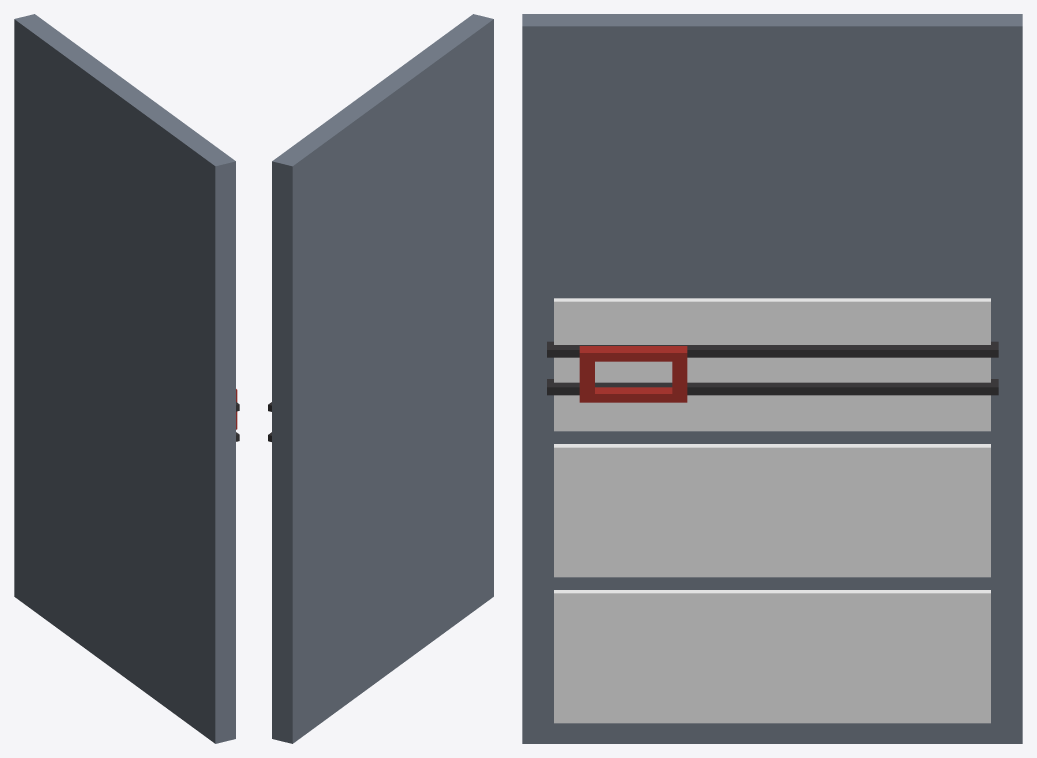
The model's file is SM_Calendar_01.glb.
3 renders of one model, left to right at view 1: azimuth 30°, elevation 25°; view 2: azimuth 150°, elevation 25°; view 3: azimuth 270°, elevation 25°, orthographic. The views are drawn at different scales.
Parts seen in each view (by area): view 1: SM_Calendar_01; view 2: SM_Calendar_01; view 3: SM_Calendar_01.
Boxes of the visible parts, box(x1,y1,x2,y2) form: SM_Calendar_01: box(14, 14, 239, 743); SM_Calendar_01: box(268, 14, 493, 743); SM_Calendar_01: box(522, 14, 1022, 743).
Bounding box in the file's own units: 0.0673 × 0.8271 × 0.5225.
Materials: 1 (1 with a texture image).
